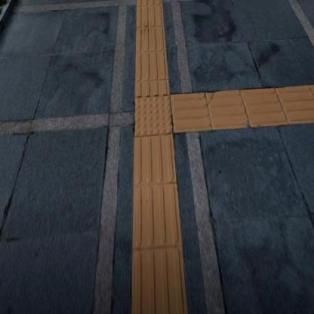Podoctatil: (131, 139, 189, 313), (174, 84, 313, 134), (120, 75, 193, 165), (131, 0, 172, 94)
